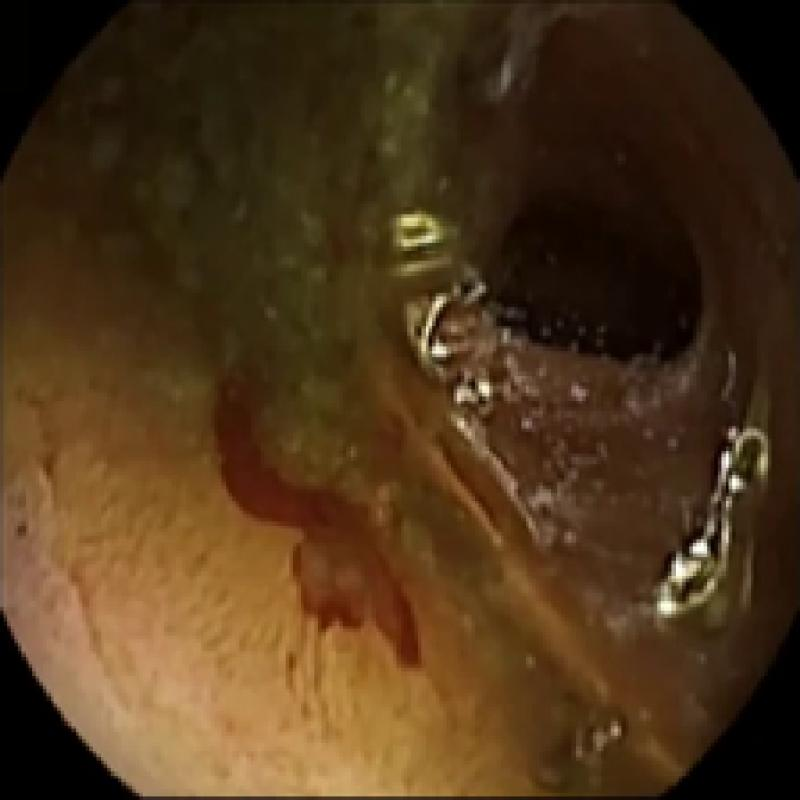bleeding: (225, 393, 418, 657)
